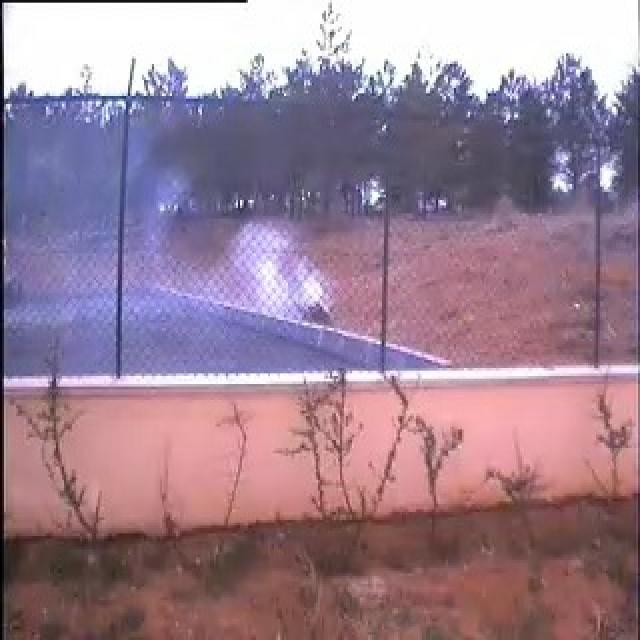smoke: (121, 135, 340, 374)
